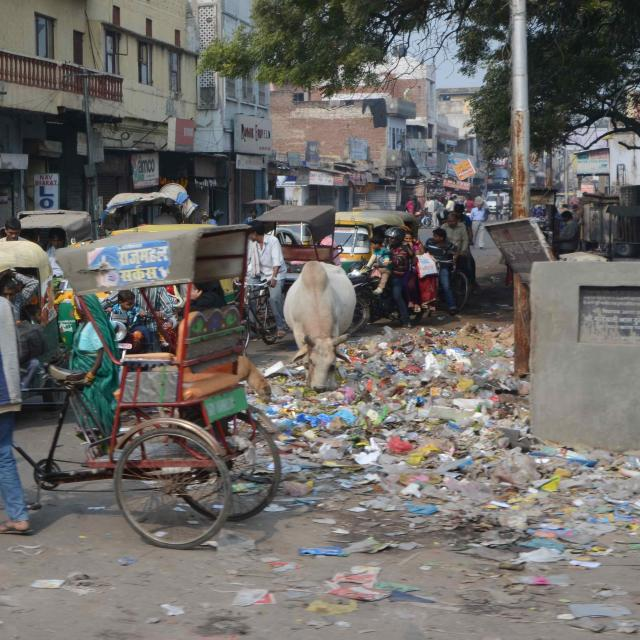garbage: (234, 346, 640, 589)
